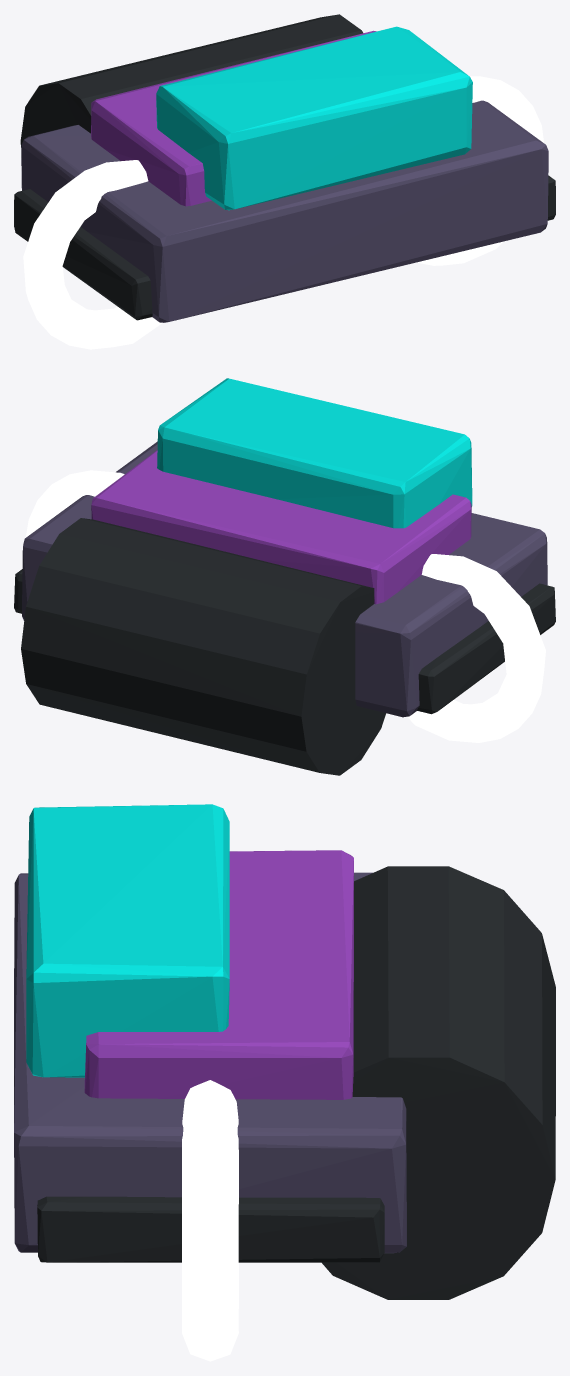
Rendered from SM_Chronolegion_CH_ProbabilistHarvester_LOD1.fbx.
The picture shows the model from 3 angles, top to bottom: view 1: azimuth 30°, elevation 25°; view 2: azimuth 150°, elevation 25°; view 3: azimuth 270°, elevation 25°; orthographic projection. The views are drawn at different scales.
Visible parts, largest first — view 1: LOD01_SM_Chronolegion_CH_ProbabilistHarvester; view 2: LOD01_SM_Chronolegion_CH_ProbabilistHarvester; view 3: LOD01_SM_Chronolegion_CH_ProbabilistHarvester.
Boxes of the visible parts, <box> form: LOD01_SM_Chronolegion_CH_ProbabilistHarvester: <box>14,14,555,349</box>; LOD01_SM_Chronolegion_CH_ProbabilistHarvester: <box>14,378,555,775</box>; LOD01_SM_Chronolegion_CH_ProbabilistHarvester: <box>14,804,555,1361</box>.
Size of the model in its own units: 587 by 380 by 269.
